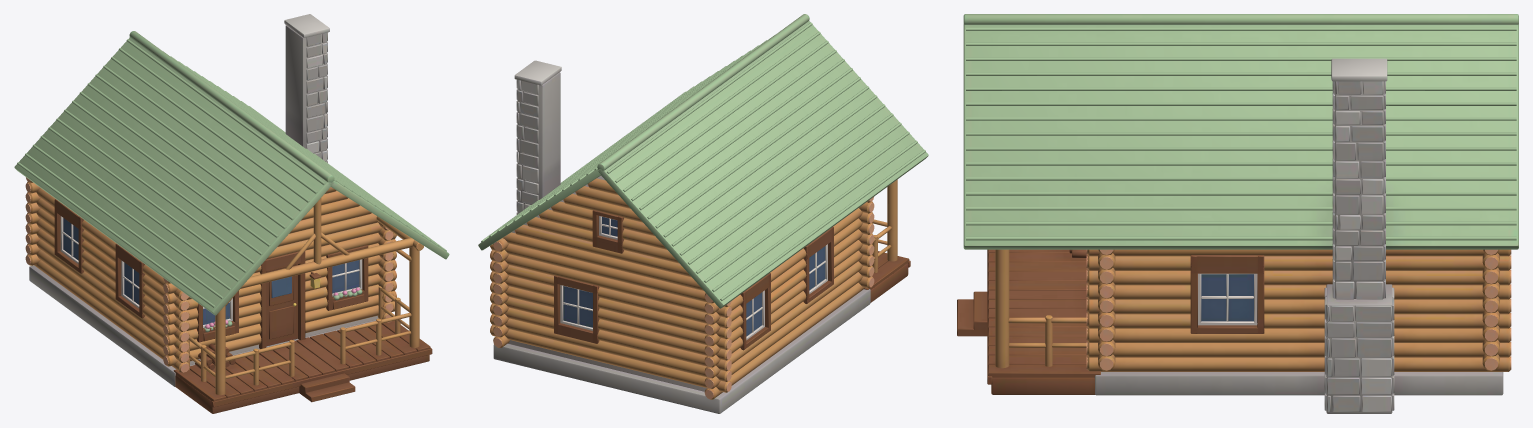
The model's file is log-cabin.glb.
The picture shows the model from 3 angles, left to right: view 1: azimuth 30°, elevation 25°; view 2: azimuth 150°, elevation 25°; view 3: azimuth 270°, elevation 25°; orthographic projection. The views are drawn at different scales.
Visible parts, largest first — view 1: log-cabin_body, log-cabin_trim, log-cabin_roof_rows; view 2: log-cabin_body, log-cabin_roof_rows, log-cabin_trim; view 3: log-cabin_body, log-cabin_trim, log-cabin_roof_rows.
Part boxes in pixels (x1,y1,x2,y2): log-cabin_body: (14, 14, 449, 413); log-cabin_trim: (25, 32, 432, 407); log-cabin_roof_rows: (17, 39, 446, 308); log-cabin_body: (478, 14, 928, 413); log-cabin_roof_rows: (481, 22, 925, 300); log-cabin_trim: (490, 79, 910, 398); log-cabin_body: (963, 14, 1518, 413); log-cabin_trim: (957, 81, 1511, 411); log-cabin_roof_rows: (966, 27, 1516, 240).
Size of the model in its own units: 7.53 by 6.72 by 10.22.
Materials: 3 (2 with a texture image).
